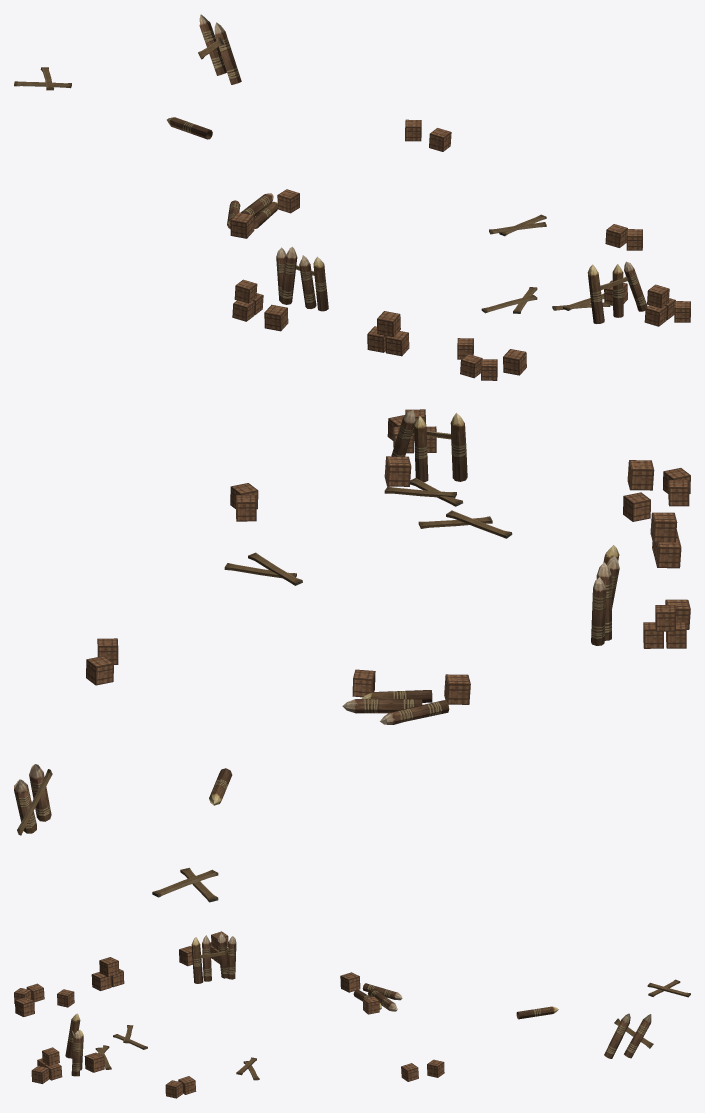
Rendered from mesh_village_goblin_townProp_01.FBX.
3 renders of one model, top to bottom at view 1: azimuth 30°, elevation 25°; view 2: azimuth 150°, elevation 25°; view 3: azimuth 270°, elevation 25°, orthographic. The views are drawn at different scales.
Visible parts, largest first — view 1: mesh_village_goblin_townProp_01; view 2: mesh_village_goblin_townProp_01; view 3: mesh_village_goblin_townProp_01.
Boxes of the visible parts, x1,y1,x2,y2 form: mesh_village_goblin_townProp_01: (14, 14, 690, 380); mesh_village_goblin_townProp_01: (14, 409, 690, 902); mesh_village_goblin_townProp_01: (14, 931, 690, 1098).
Size of the model in its own units: 44.03 by 7.34 by 85.94.
